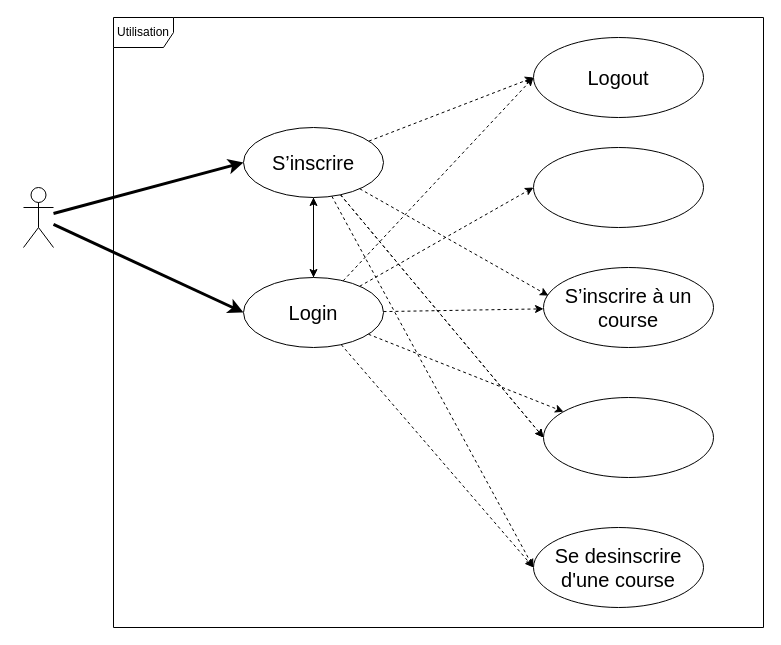
The diagram is 781 pixels wide and 645 high, and some of its shapes have lost their labels. The shapes that lost their labels are listed below. From the top down, each one's centre as x and y in pixels, then its label:
At (x=618, y=187): "Voir ses courses".
At (x=38, y=217): "etudiant".
At (x=628, y=437): "Voir liste des courses".
